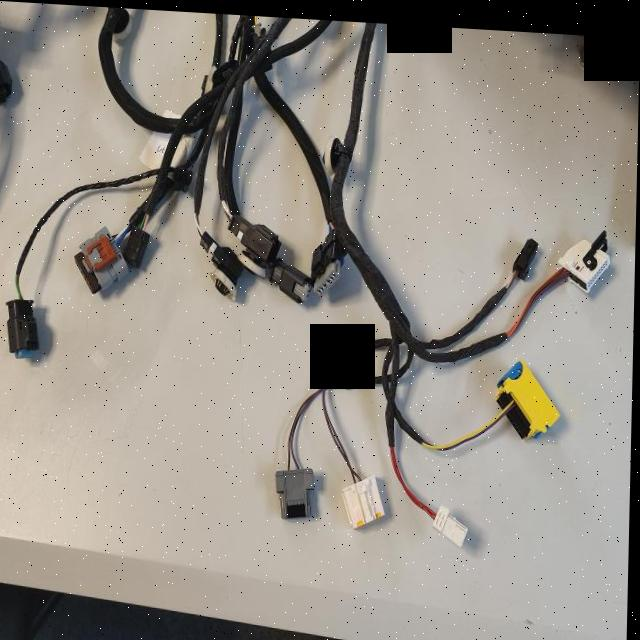cable: (331, 18, 538, 356), (18, 164, 187, 299), (254, 67, 331, 216), (98, 6, 180, 129)
clip: (321, 133, 345, 177), (212, 258, 236, 295), (237, 247, 265, 275)
connector: (498, 354, 561, 432), (76, 226, 129, 291), (559, 223, 610, 285), (345, 470, 389, 524), (313, 220, 347, 288), (278, 465, 323, 514), (266, 255, 313, 297), (8, 299, 40, 356), (84, 227, 120, 270), (121, 218, 151, 265), (436, 500, 470, 541), (515, 232, 538, 274)
